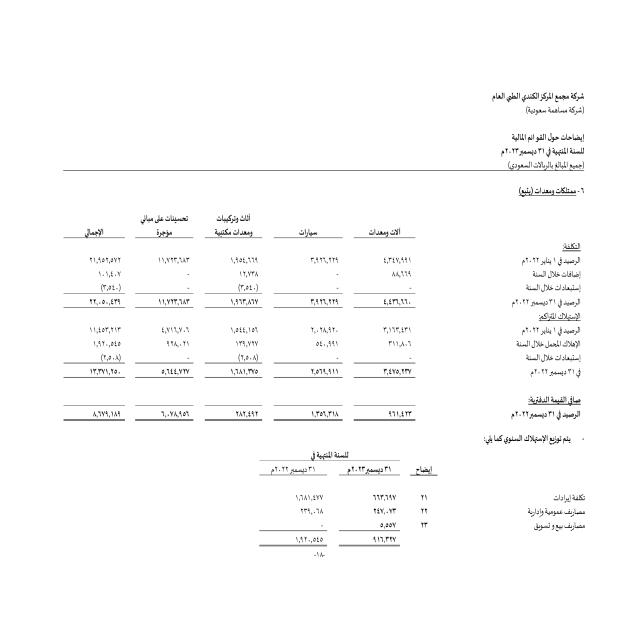notes: (495, 129, 589, 144)
table: (46, 205, 445, 437), (236, 443, 459, 558)
